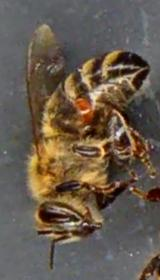varroa_mite: (66, 89, 98, 126)
